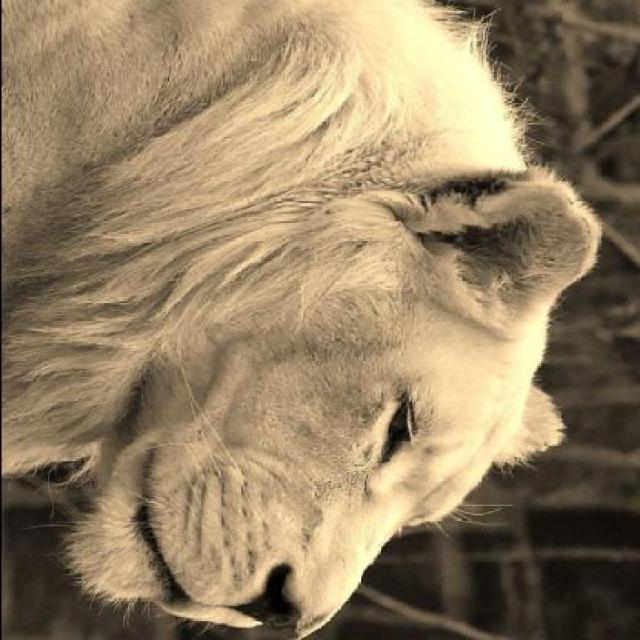Lion: (1, 4, 614, 638)
